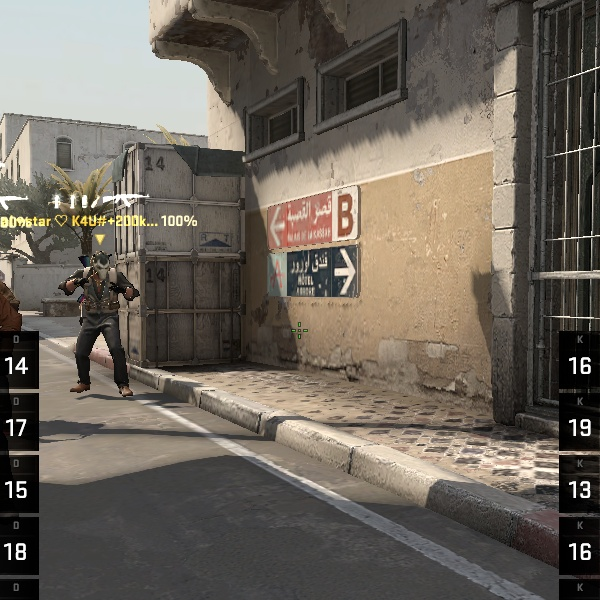t_body: (54, 248, 138, 398)
